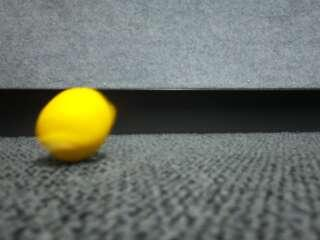lemon: (35, 87, 117, 163)
